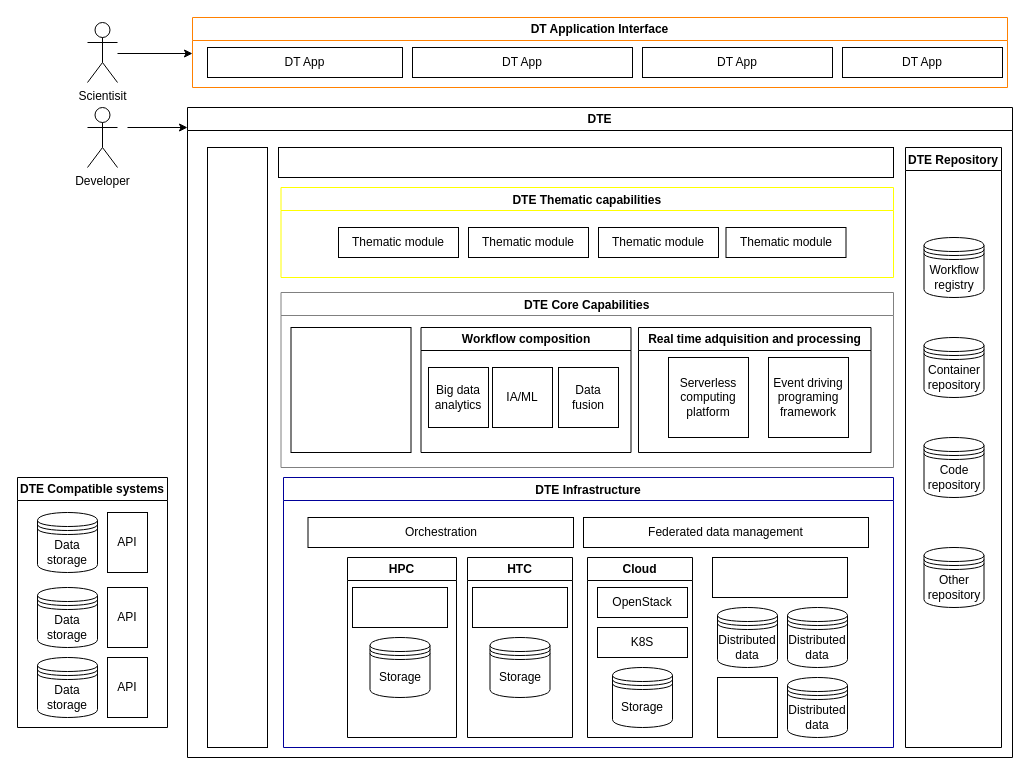
The diagram is 1030 pixels wide and 775 high, and some of its shapes have lost their labels. The centre of each missing label's shape, as x and y in pixels:
AAI: point 237,447
DTE API: point 586,162
Federated compute: point 780,577
HPC Cluster: point 400,607
HTC Cluster: point 520,607
Quality Verification: point 350,389
Quantum computing: point 747,707
